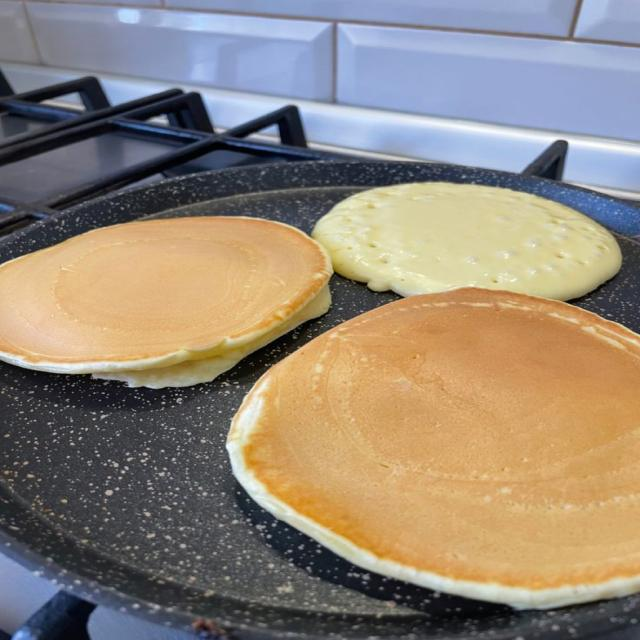pancake: (228, 288, 639, 607), (0, 216, 331, 388)
